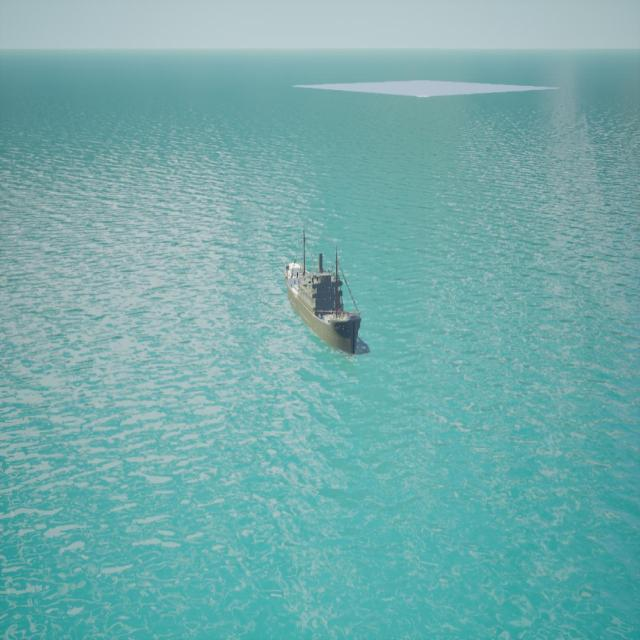fishing ship: (284, 253, 365, 358)
